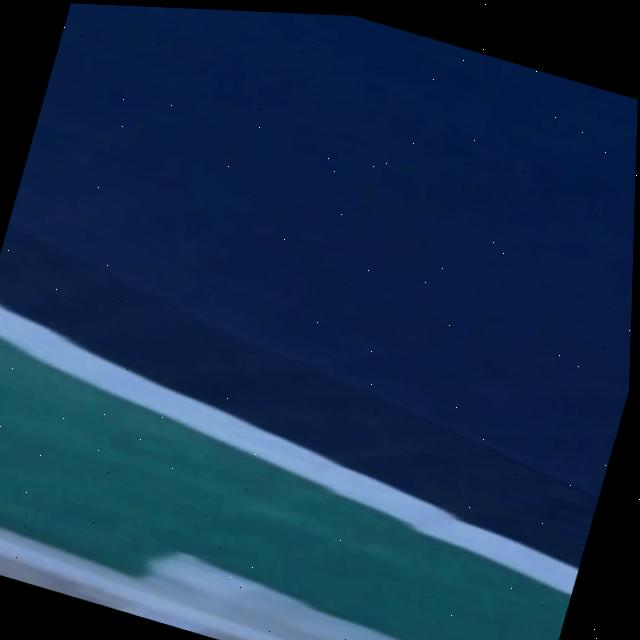right: (0, 303, 579, 593)
